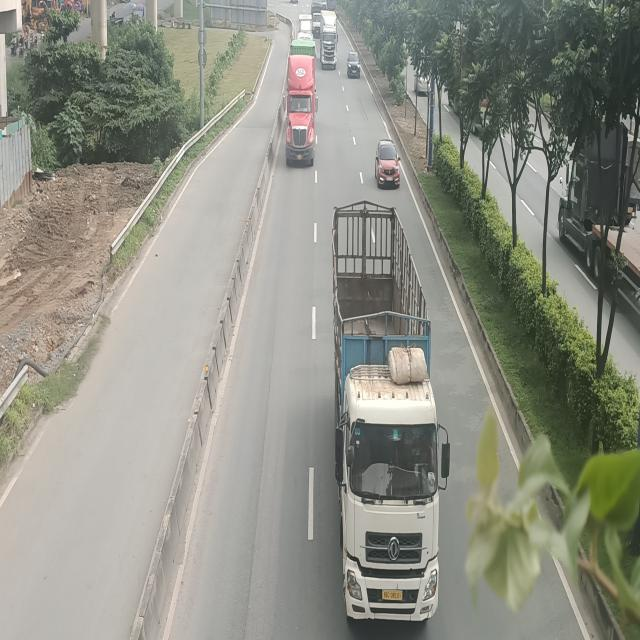car: (376, 142, 402, 188), (347, 52, 361, 79)
container: (283, 41, 318, 165), (320, 10, 338, 69)
truck: (332, 200, 449, 624), (312, 2, 322, 36)
